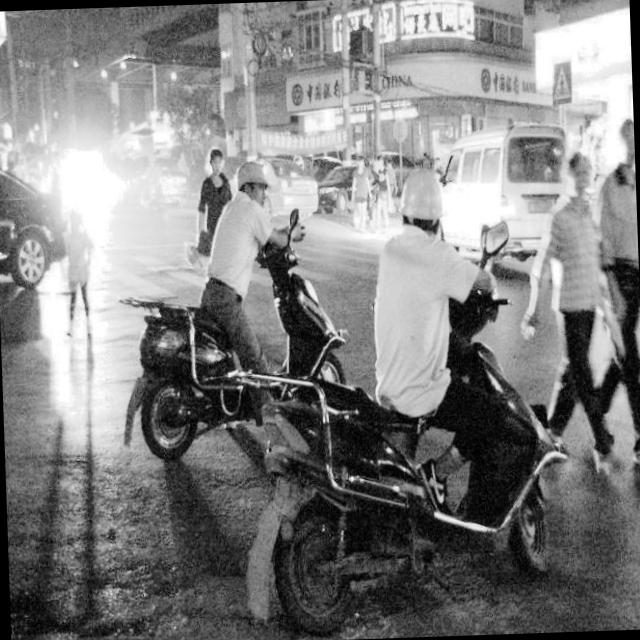Motorcycle: (296, 327, 599, 615), (141, 278, 358, 481)
Person: (362, 159, 471, 459), (191, 148, 294, 422), (548, 118, 607, 448), (600, 91, 640, 462), (59, 194, 112, 346), (192, 132, 229, 270), (339, 154, 373, 238)
